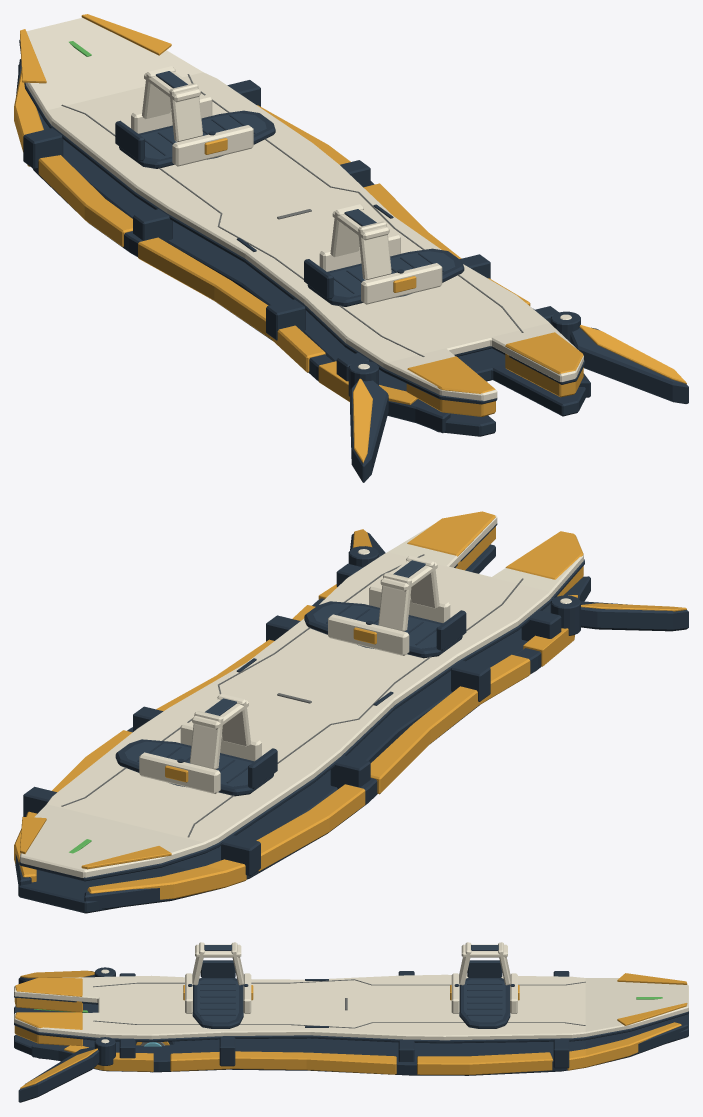
File: skipper.glb
The picture shows the model from 3 angles, top to bottom: view 1: azimuth 30°, elevation 25°; view 2: azimuth 150°, elevation 25°; view 3: azimuth 270°, elevation 25°; orthographic projection. The views are drawn at different scales.
Parts seen in each view (by area): view 1: Board_Skipper_skipper_ivory, Board_Skipper_skipper_mustard_Detail, Board_Skipper_skipper_navy, FootHold_Rear_skipper_ivory, FootHold_Front_skipper_ivory, Fin_Right_skipper_navy, Fin_Left_skipper_navy, FootHold_Rear_skipper_binding_pad_Detail, FootHold_Front_skipper_binding_pad_Detail, FootHold_Front_skipper_navy, FootHold_Rear_skipper_navy, Board_Skipper_skipper_seam_Detail (+2 smaller); view 2: Board_Skipper_skipper_ivory, Board_Skipper_skipper_navy, Board_Skipper_skipper_mustard_Detail, FootHold_Rear_skipper_ivory, FootHold_Front_skipper_ivory, Fin_Left_skipper_navy, FootHold_Front_skipper_binding_pad_Detail, FootHold_Rear_skipper_binding_pad_Detail, FootHold_Rear_skipper_navy, FootHold_Front_skipper_navy, Board_Skipper_skipper_seam_Detail, Fin_Right_skipper_navy; view 3: Board_Skipper_skipper_ivory, Board_Skipper_skipper_mustard_Detail, Board_Skipper_skipper_navy, Fin_Right_skipper_navy, FootHold_Front_skipper_binding_pad_Detail, FootHold_Rear_skipper_binding_pad_Detail, FootHold_Front_skipper_ivory, FootHold_Rear_skipper_ivory, FootHold_Rear_skipper_navy, FootHold_Front_skipper_navy, Board_Skipper_skipper_seam_Detail, Fin_Right_skipper_mustard_Detail (+4 smaller).
Part boxes in pixels (<box>): Board_Skipper_skipper_ivory: <box>20,17,583,400</box>; Board_Skipper_skipper_mustard_Detail: <box>14,14,583,416</box>; Board_Skipper_skipper_navy: <box>16,40,590,436</box>; FootHold_Rear_skipper_ivory: <box>319,204,442,304</box>; FootHold_Front_skipper_ivory: <box>131,66,253,166</box>; Fin_Right_skipper_navy: <box>550,311,688,403</box>; Fin_Left_skipper_navy: <box>348,361,388,482</box>; FootHold_Rear_skipper_binding_pad_Detail: <box>329,209,455,297</box>; FootHold_Front_skipper_binding_pad_Detail: <box>141,71,266,159</box>; FootHold_Front_skipper_navy: <box>115,110,275,168</box>; FootHold_Rear_skipper_navy: <box>304,248,464,306</box>; Board_Skipper_skipper_seam_Detail: <box>61,74,523,356</box>; Board_Skipper_skipper_ivory: <box>20,515,583,877</box>; Board_Skipper_skipper_navy: <box>15,523,590,913</box>; Board_Skipper_skipper_mustard_Detail: <box>14,511,583,899</box>; FootHold_Rear_skipper_ivory: <box>328,555,450,655</box>; FootHold_Front_skipper_ivory: <box>139,693,261,793</box>; Fin_Left_skipper_navy: <box>550,595,688,635</box>; FootHold_Front_skipper_binding_pad_Detail: <box>124,698,251,786</box>; FootHold_Rear_skipper_binding_pad_Detail: <box>313,560,440,648</box>; FootHold_Rear_skipper_navy: <box>304,601,466,658</box>; FootHold_Front_skipper_navy: <box>115,739,277,796</box>; Board_Skipper_skipper_seam_Detail: <box>61,554,523,837</box>; Fin_Right_skipper_navy: <box>348,532,385,567</box>; Board_Skipper_skipper_ivory: <box>14,974,688,1040</box>; Board_Skipper_skipper_mustard_Detail: <box>14,973,687,1074</box>; Board_Skipper_skipper_navy: <box>14,971,688,1075</box>; Fin_Right_skipper_navy: <box>18,1037,115,1102</box>; FootHold_Front_skipper_binding_pad_Detail: <box>464,945,505,1022</box>; FootHold_Rear_skipper_binding_pad_Detail: <box>197,945,238,1022</box>; FootHold_Front_skipper_ivory: <box>451,942,517,1013</box>; FootHold_Rear_skipper_ivory: <box>185,942,251,1013</box>; FootHold_Rear_skipper_navy: <box>192,960,243,1028</box>; FootHold_Front_skipper_navy: <box>459,960,510,1028</box>; Board_Skipper_skipper_seam_Detail: <box>93,979,585,1028</box>; Fin_Right_skipper_mustard_Detail: <box>20,1048,97,1088</box>.
Size of the model in its own units: 0.6393 by 0.2702 by 1.62.
